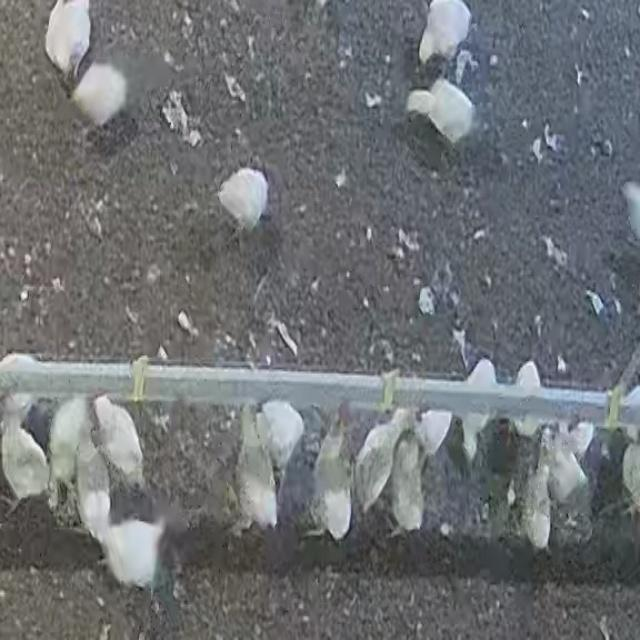chicken: (308, 411, 357, 543), (95, 507, 166, 592), (0, 396, 51, 506), (90, 392, 146, 490), (237, 405, 278, 534), (357, 402, 406, 509), (542, 419, 594, 513), (406, 79, 474, 147), (72, 430, 112, 544), (49, 388, 87, 508), (44, 2, 94, 86), (456, 357, 497, 459), (72, 61, 130, 129), (418, 0, 473, 70), (258, 400, 306, 475), (216, 168, 270, 234), (518, 462, 558, 548), (391, 436, 426, 534), (417, 381, 453, 462), (511, 361, 544, 441)
